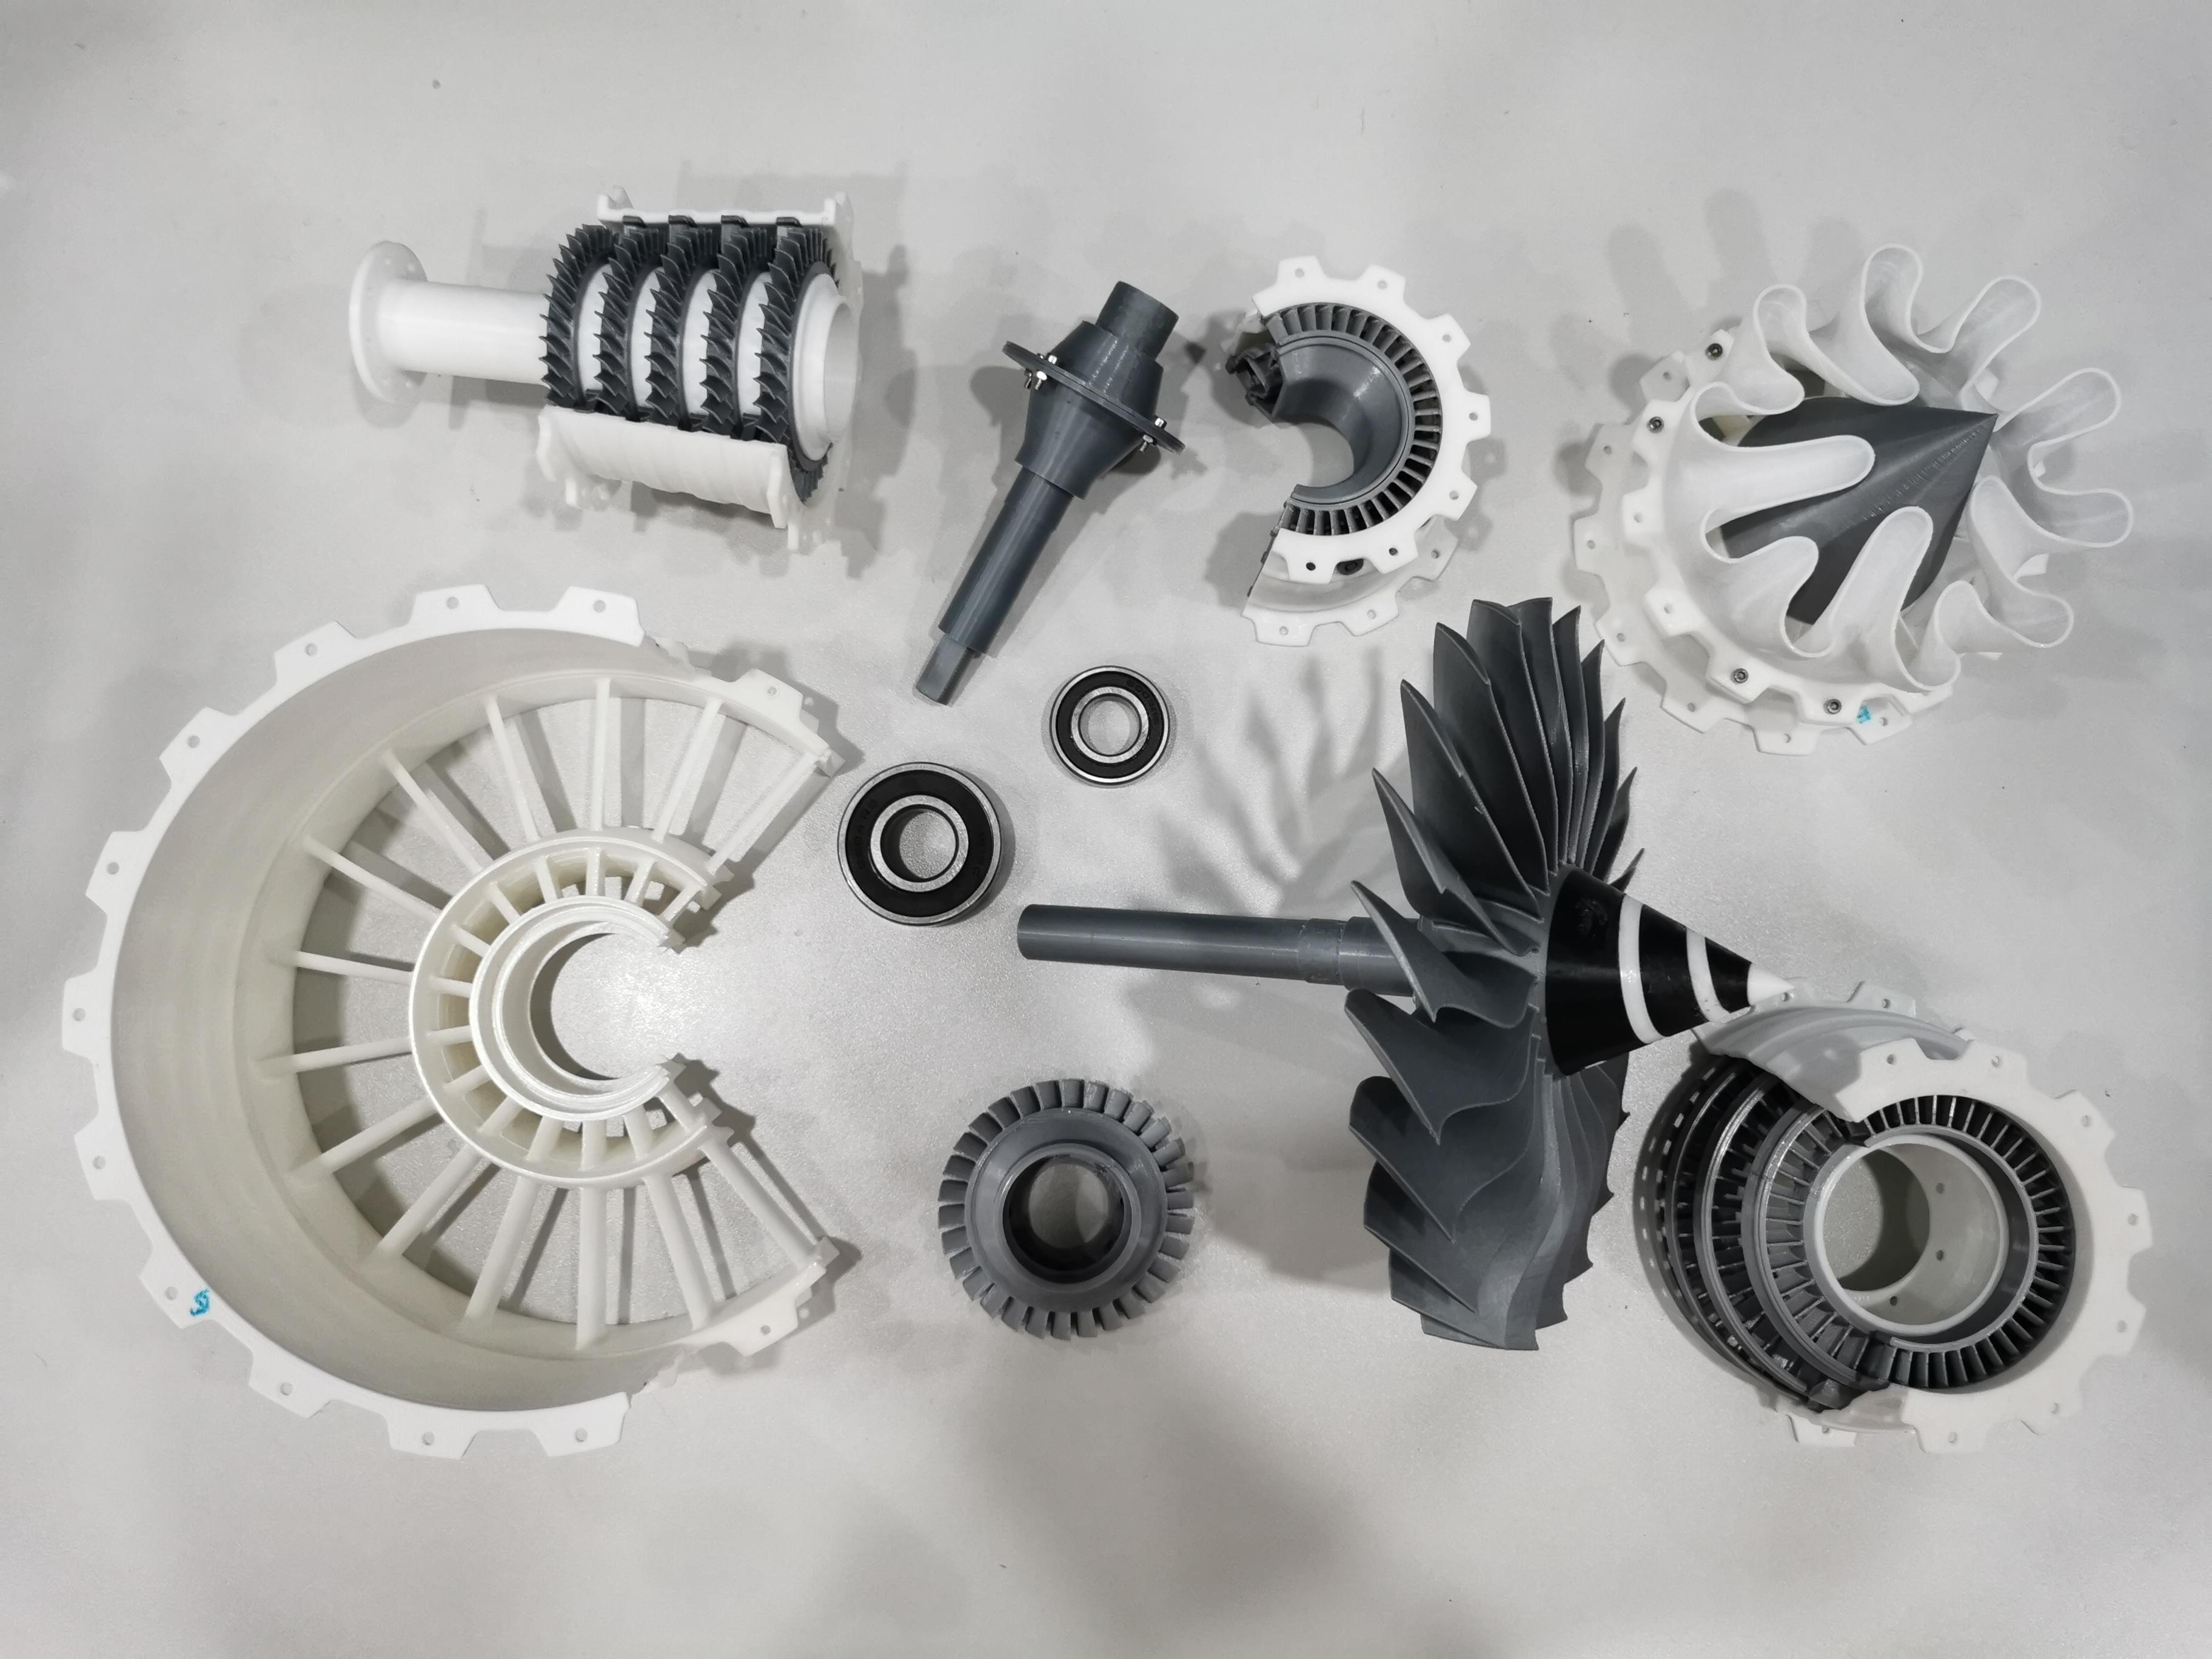Bearing-6003: (1035, 659, 1184, 796)
Bearing-6204: (836, 758, 1015, 934)
Combustion Section: (1221, 249, 1503, 650)
Fan Casing and Support: (56, 575, 850, 1473)
Fan and Low Pressure Shaft: (1007, 589, 1806, 1363)
HPT Section: (911, 1070, 1216, 1356)
High Pressure Spool: (317, 176, 878, 551)
LPT Section: (1630, 969, 2160, 1464)
Low Pressure Spool: (895, 263, 1212, 709)
Nozzle Section: (1561, 239, 2139, 763)
